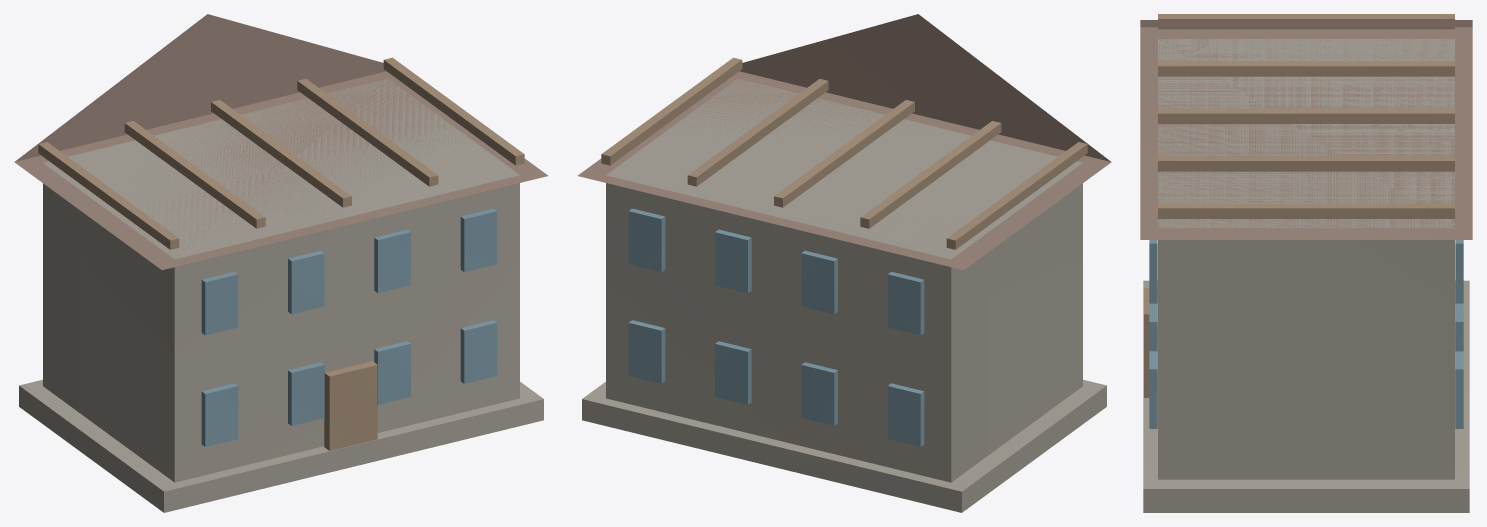
File: greenhouse-02.glb
3 renders of one model, left to right at view 1: azimuth 30°, elevation 25°; view 2: azimuth 150°, elevation 25°; view 3: azimuth 270°, elevation 25°, orthographic. The views are drawn at different scales.
Visible parts, largest first — view 1: world; view 2: world; view 3: world.
Boxes of the visible parts, bbox=[...] form: world: bbox=[14, 14, 548, 512]; world: bbox=[577, 14, 1111, 512]; world: bbox=[1140, 14, 1472, 512].
Size of the model in its own units: 1.52 by 1.3 by 1.01.
